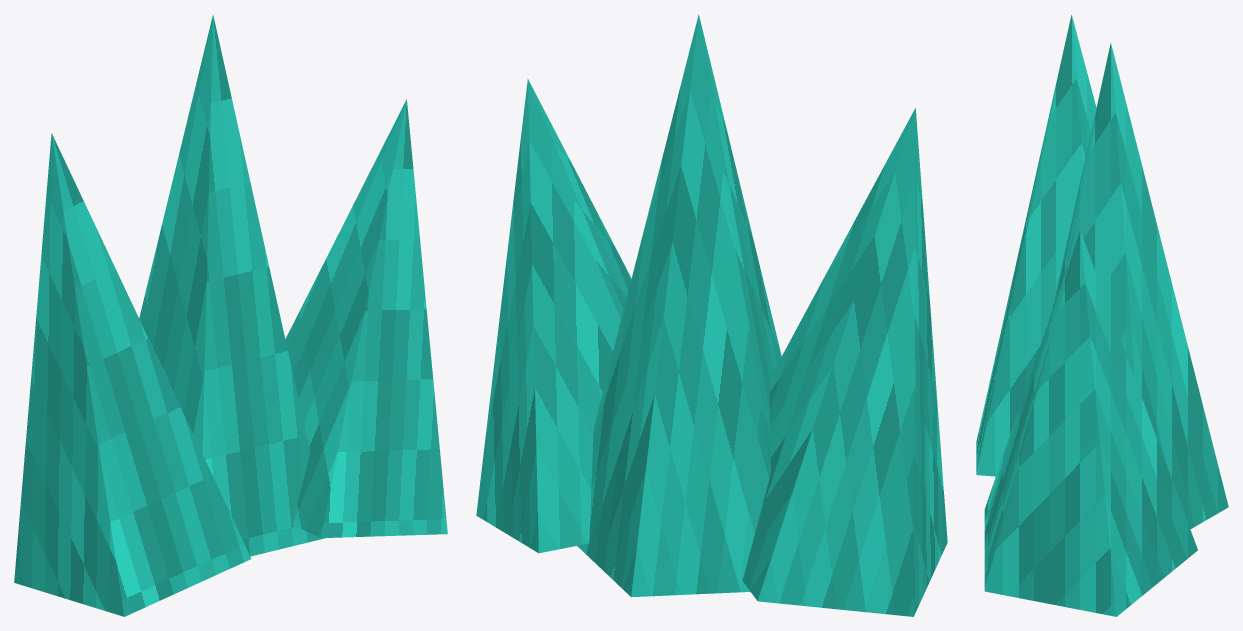
The model's file is crystal_08.glb.
3 views of the same model, side by side, from view 1: azimuth 30°, elevation 25°; view 2: azimuth 150°, elevation 25°; view 3: azimuth 270°, elevation 25° (orthographic). The views are drawn at different scales.
Parts seen in each view (by area): view 1: Jade, Jade.001, Jade.002; view 2: Jade.001, Jade, Jade.002; view 3: Jade.002, Jade.001, Jade.
Boxes of the visible parts, left/top/right/bottom form: Jade: left=14, top=133, right=250, bottom=616; Jade.001: left=139, top=14, right=325, bottom=556; Jade.002: left=285, top=99, right=447, bottom=538; Jade.001: left=577, top=14, right=781, bottom=597; Jade: left=742, top=108, right=947, bottom=616; Jade.002: left=476, top=79, right=631, bottom=553; Jade.002: left=984, top=230, right=1197, bottom=616; Jade.001: left=1051, top=42, right=1228, bottom=529; Jade: left=976, top=14, right=1096, bottom=476.
Size of the model in its own units: 0.8115 by 0.991 by 0.4711.
1 material, 1 textured.
